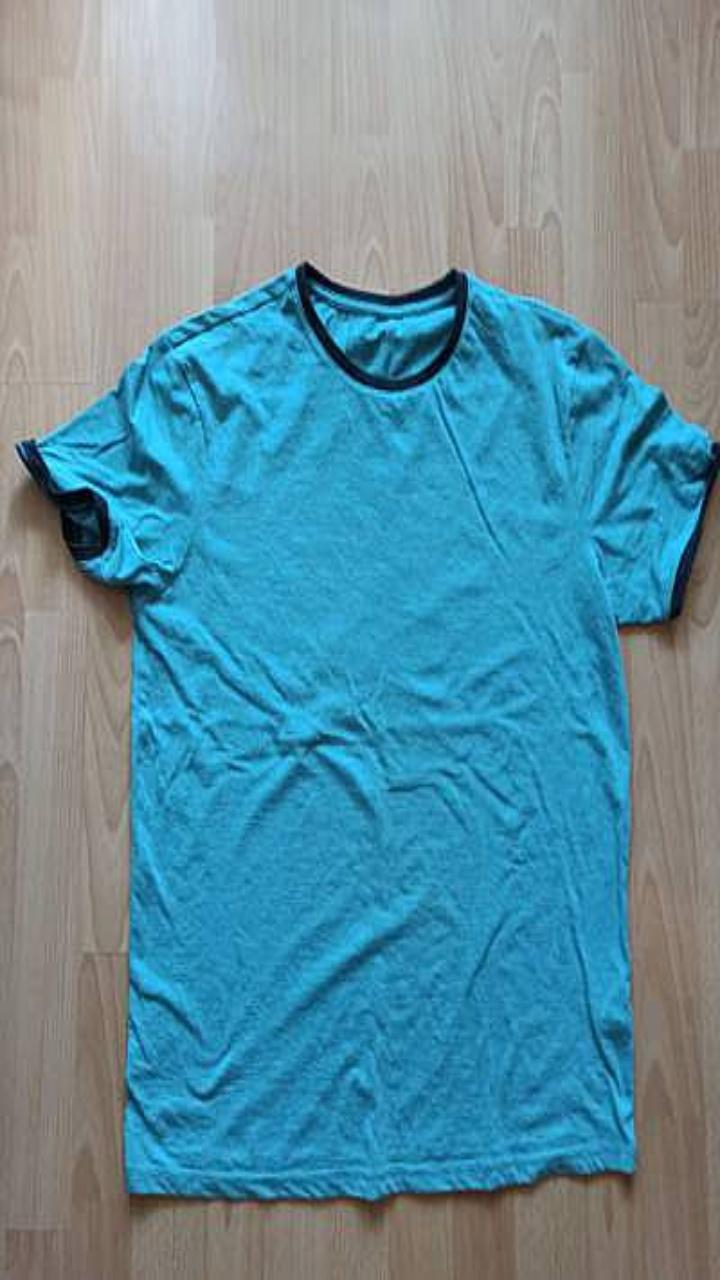T-Shirt: (15, 262, 719, 1198)
